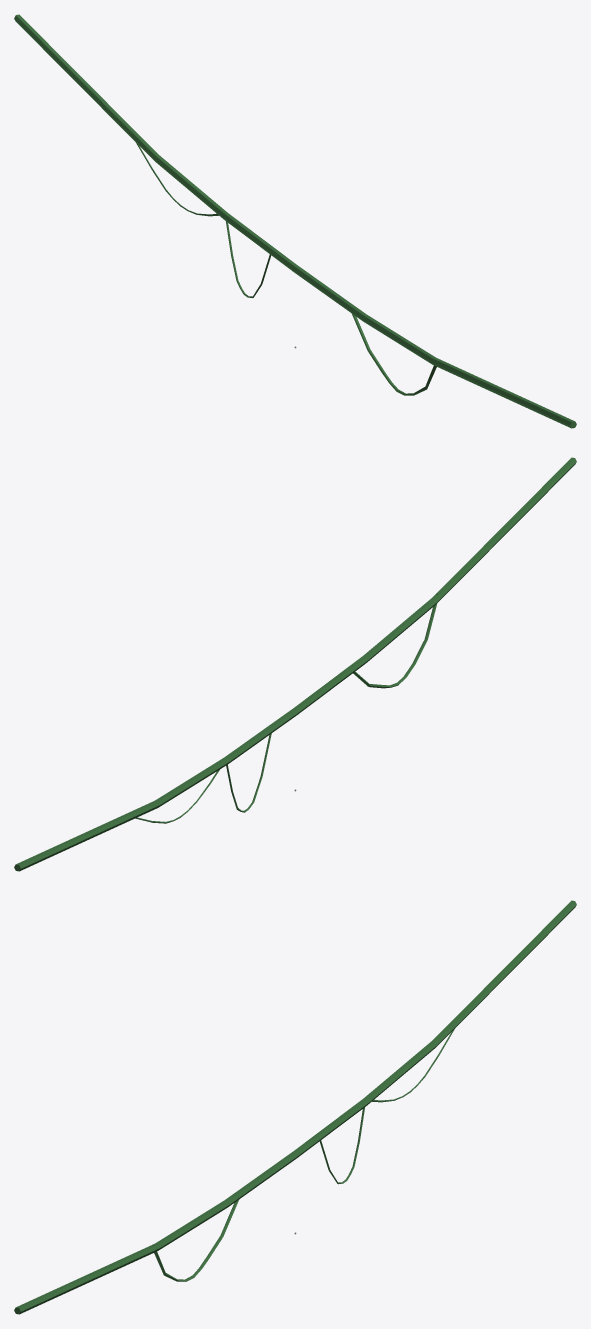
The model's file is Vine2.fbx.
The picture shows the model from 3 angles, top to bottom: view 1: azimuth 30°, elevation 25°; view 2: azimuth 150°, elevation 25°; view 3: azimuth 330°, elevation 25°; orthographic projection.
Visible parts, largest first — view 1: Vine2; view 2: Vine2; view 3: Vine2.
Part boxes in pixels (box(x1,y1,x2,y2)): Vine2: box(14, 14, 576, 428); Vine2: box(14, 457, 576, 871); Vine2: box(14, 900, 576, 1314).
Size of the model in its own units: 5.7 by 101 by 785.
